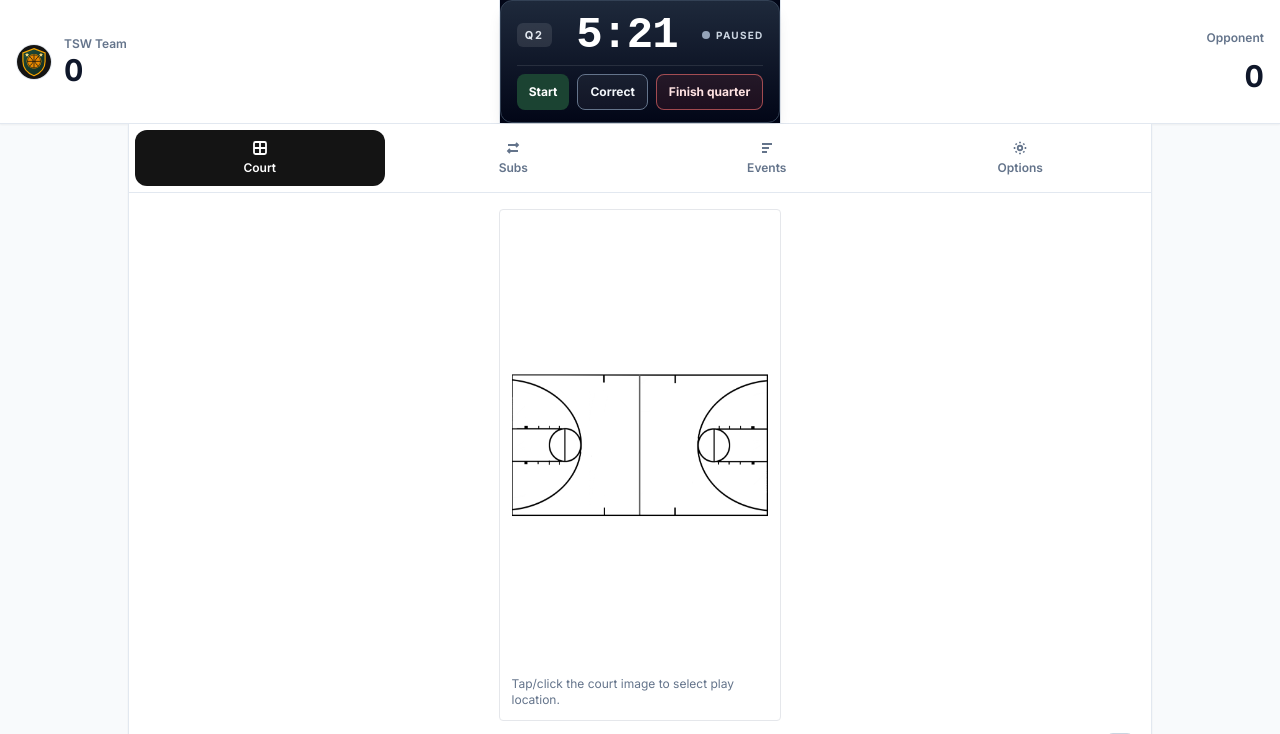
Scenario: GameTrackPage › reconciles once and never replays the write when a voice command hits a 409
Step 1. Click the button "Options" → (1020, 158), box [896, 130, 1145, 186]
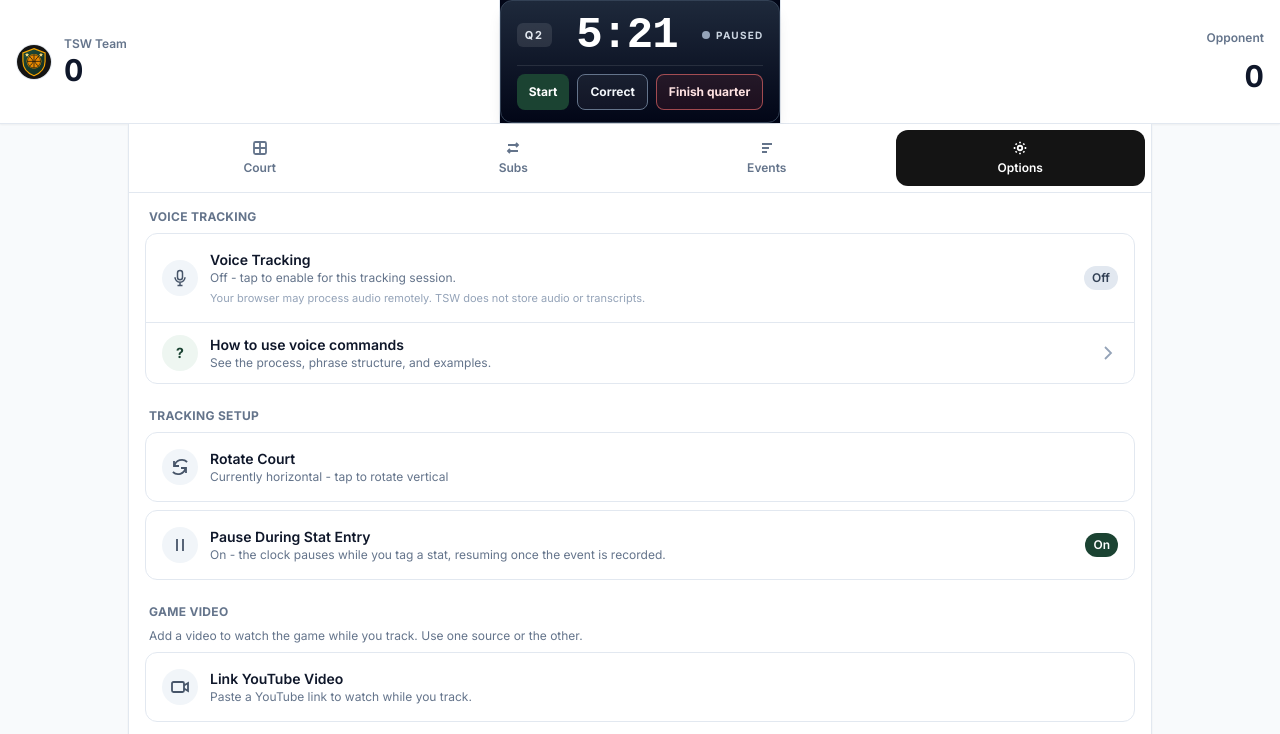
Step 2. Click the button "Voice Tracking" → (180, 278), box [146, 234, 1134, 322]
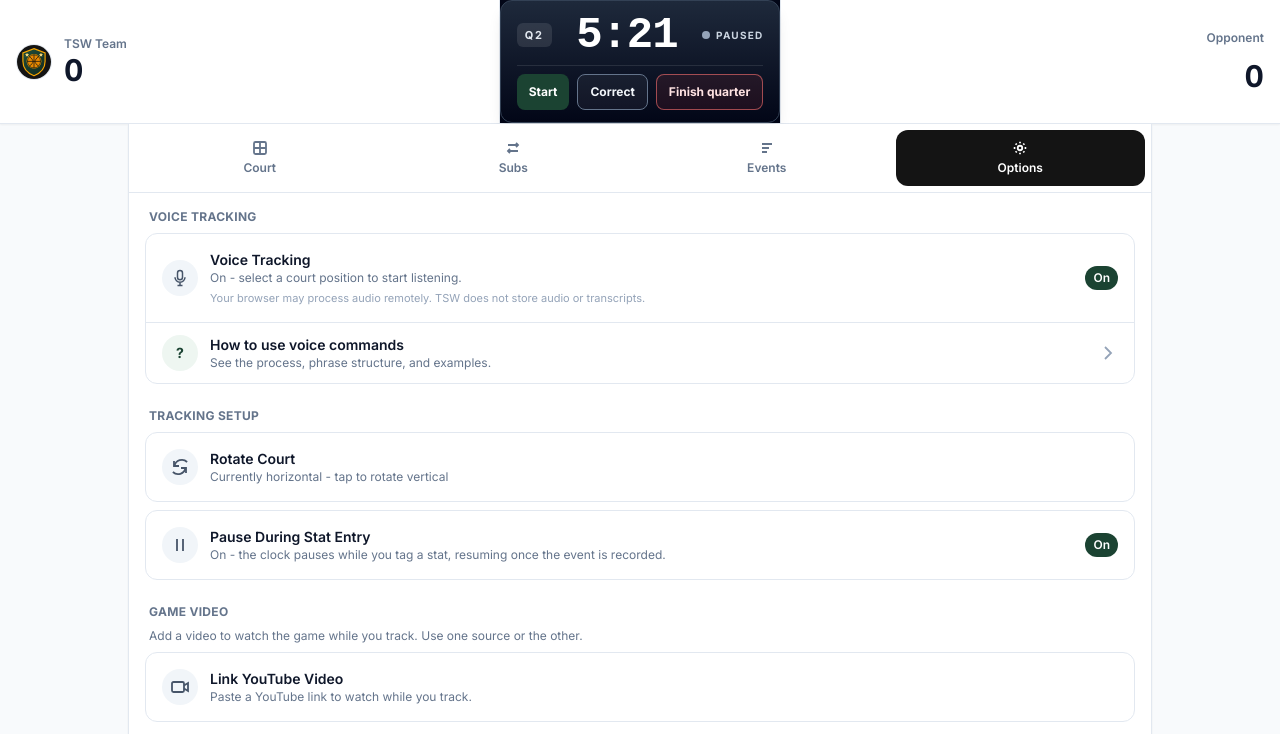
Step 3. Click the button "Court" → (260, 158), box [135, 130, 384, 186]
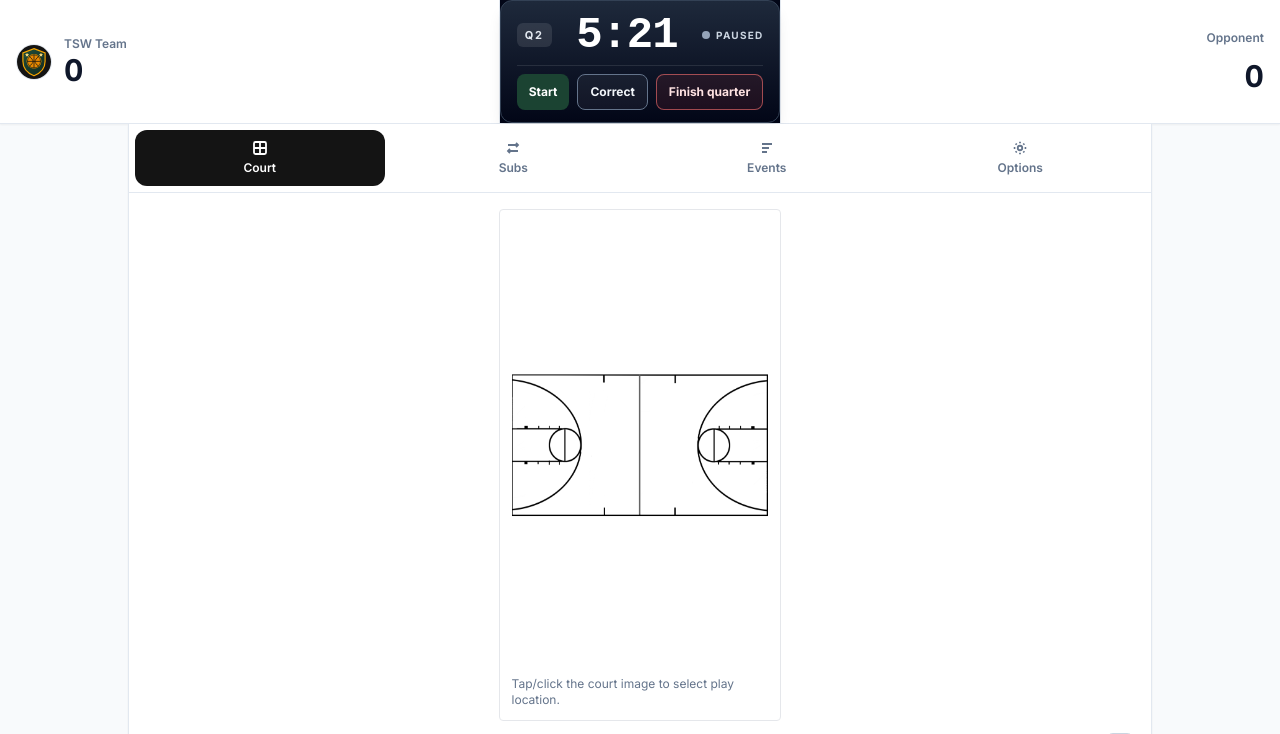
Step 4. Press the mouse on the picture with test id "interactive-court-image" → (640, 445), box [512, 374, 768, 516]
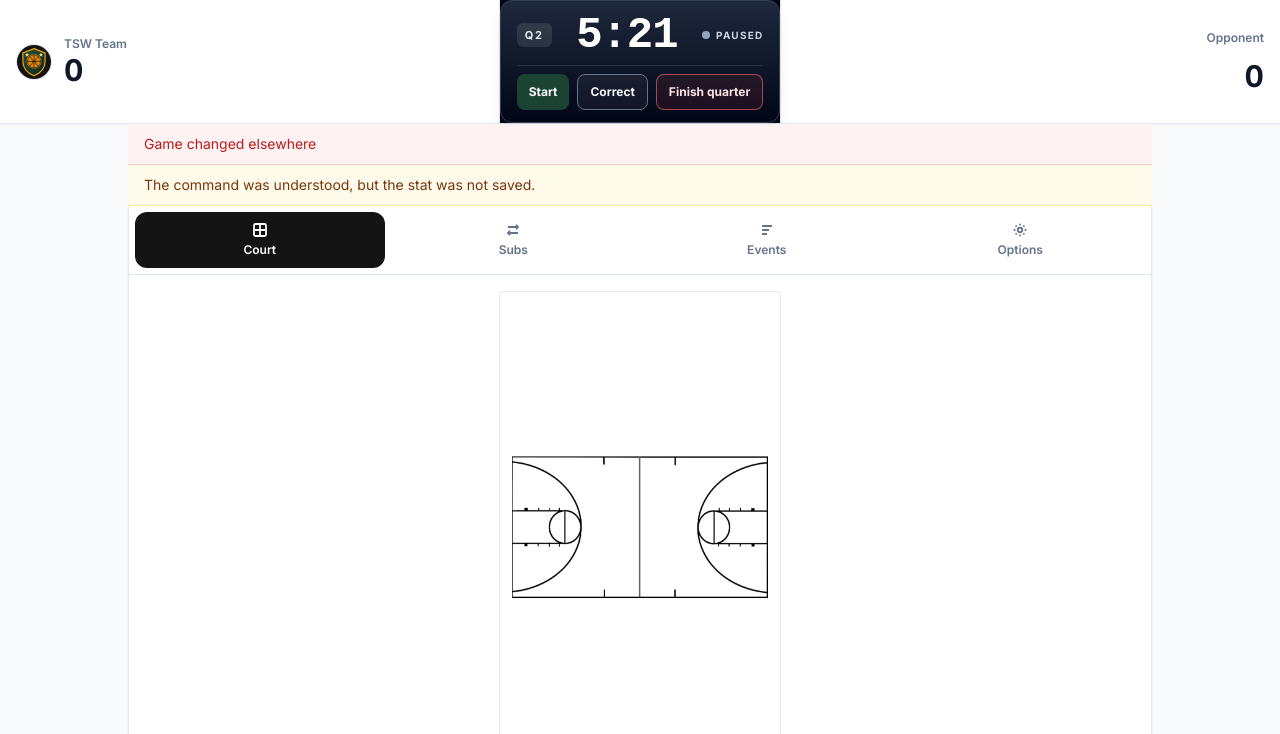
Result: the text "Game changed elsewhere" is shown at [128, 124, 1152, 165]
